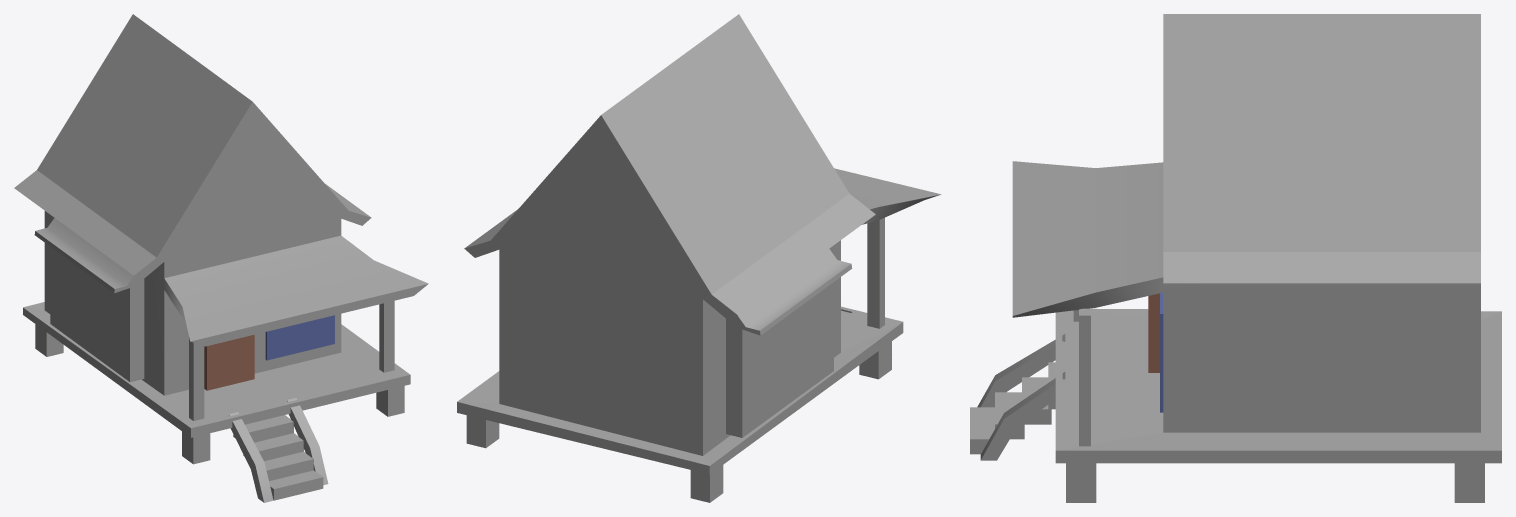
File: fbx_house_v4.fbx
The picture shows the model from 3 angles, left to right: view 1: azimuth 30°, elevation 25°; view 2: azimuth 150°, elevation 25°; view 3: azimuth 270°, elevation 25°; orthographic projection. The views are drawn at different scales.
Visible parts, largest first — view 1: pCube22; view 2: pCube22; view 3: pCube22.
Part boxes in pixels (x1,y1,x2,y2): pCube22: (14, 14, 428, 502); pCube22: (457, 14, 941, 502); pCube22: (970, 14, 1501, 502).
Size of the model in its own units: 5.78 by 7.72 by 8.41.
